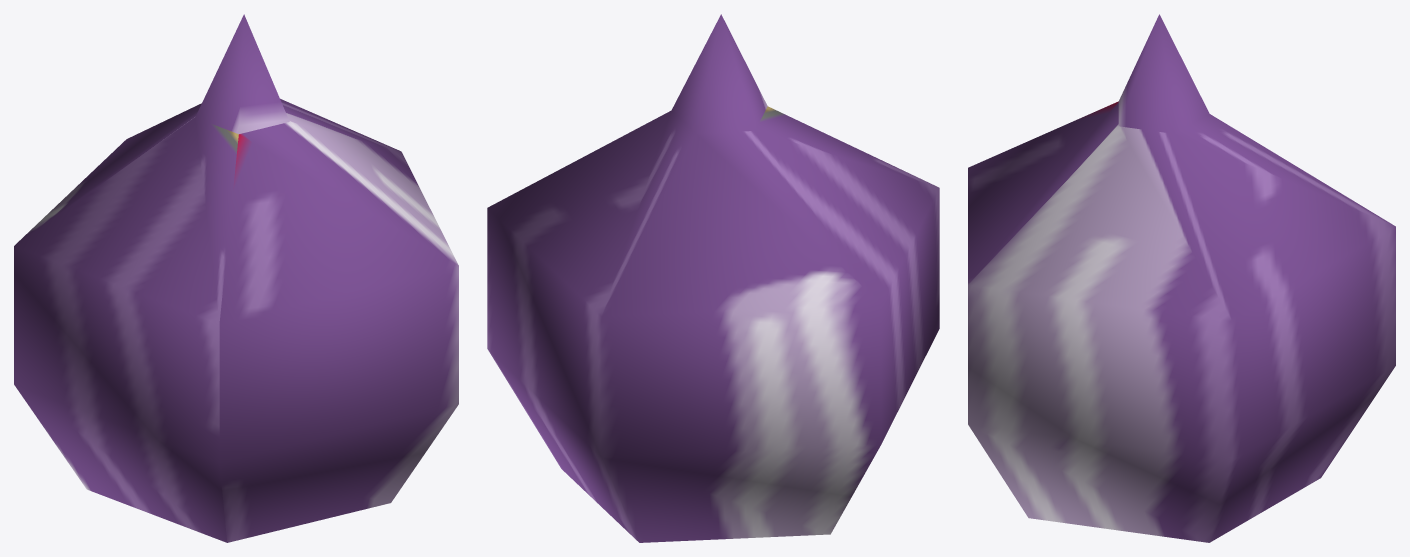
The model's file is cipolla.fbx.
3 views of the same model, side by side, from view 1: azimuth 30°, elevation 25°; view 2: azimuth 150°, elevation 25°; view 3: azimuth 270°, elevation 25° (orthographic).
Visible parts, largest first — view 1: Sphere.002; view 2: Sphere.002; view 3: Sphere.002.
Part boxes in pixels (x1,y1,x2,y2): Sphere.002: (14, 14, 458, 542); Sphere.002: (487, 14, 939, 542); Sphere.002: (968, 14, 1395, 542).
Size of the model in its own units: 5.8 by 6.91 by 5.52.
